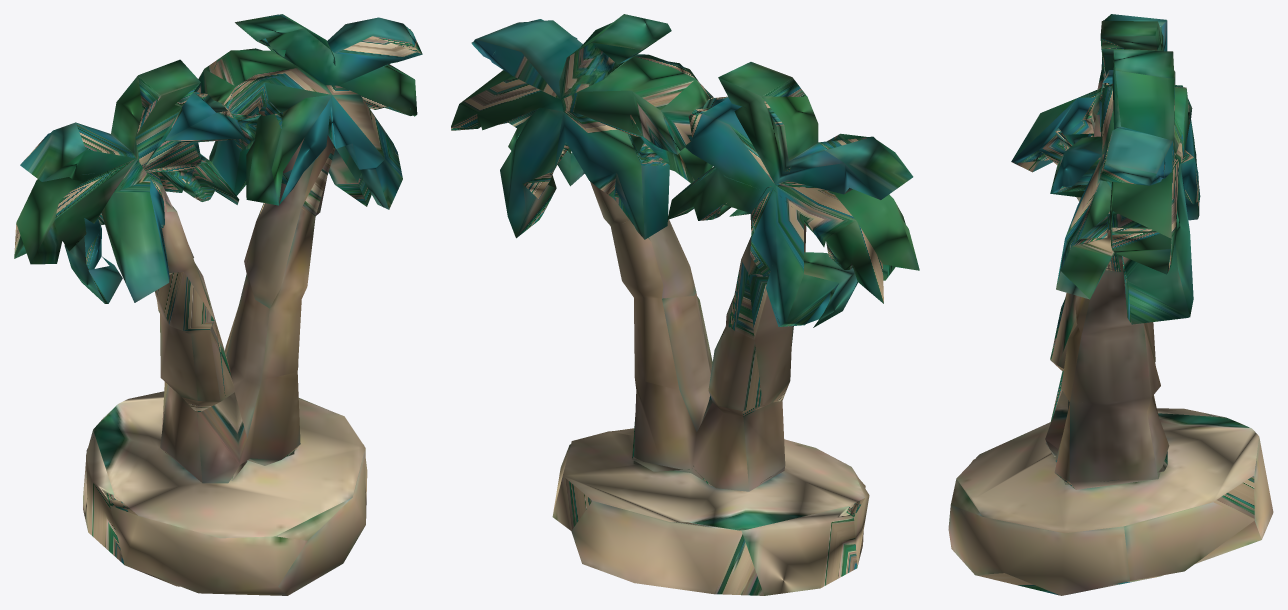
The model's file is sw-palm-c.glb.
3 views of the same model, side by side, from view 1: azimuth 30°, elevation 25°; view 2: azimuth 150°, elevation 25°; view 3: azimuth 270°, elevation 25° (orthographic). The views are drawn at different scales.
Visible parts, largest first — view 1: geometry_0; view 2: geometry_0; view 3: geometry_0.
Part boxes in pixels (x1=…): geometry_0: x1=14, y1=14, x2=422, y2=595; geometry_0: x1=451, y1=14, x2=919, y2=595; geometry_0: x1=948, y1=14, x2=1273, y2=595.
Bounding box in the file's own units: 0.803 × 0.9197 × 0.5135.
1 material, 1 textured.
